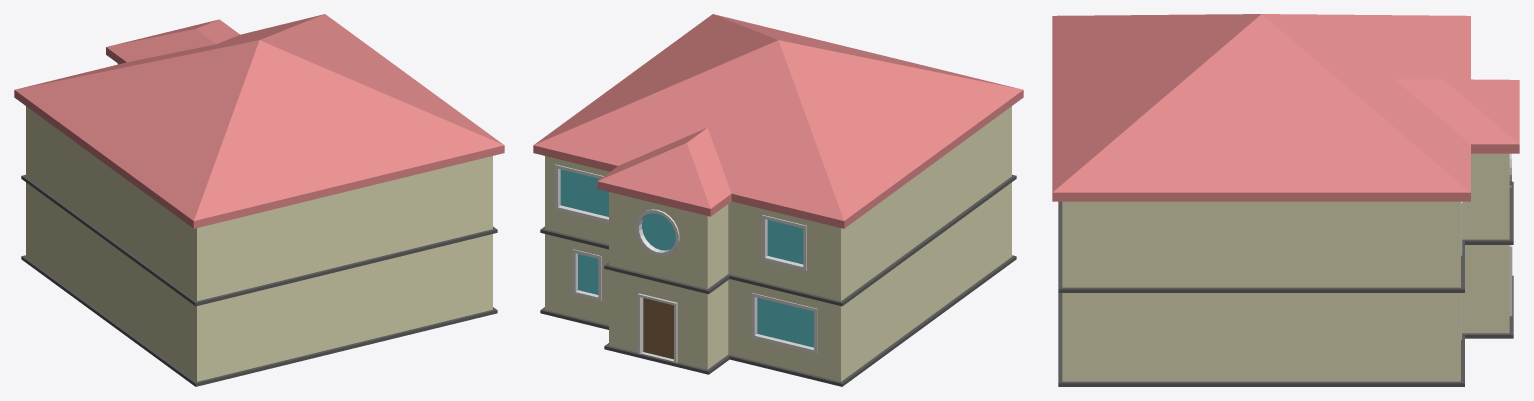
File: randon building 1.fbx
3 views of the same model, side by side, from view 1: azimuth 30°, elevation 25°; view 2: azimuth 150°, elevation 25°; view 3: azimuth 270°, elevation 25° (orthographic). The views are drawn at different scales.
Parts seen in each view (by area): view 1: building_001; view 2: building_001; view 3: building_001.
Boxes of the visible parts, box(x1,y1,x2,y2) form: building_001: box(14, 14, 504, 386); building_001: box(533, 14, 1023, 386); building_001: box(1052, 14, 1519, 386).
Size of the model in its own units: 2802 by 2122 by 3129.
